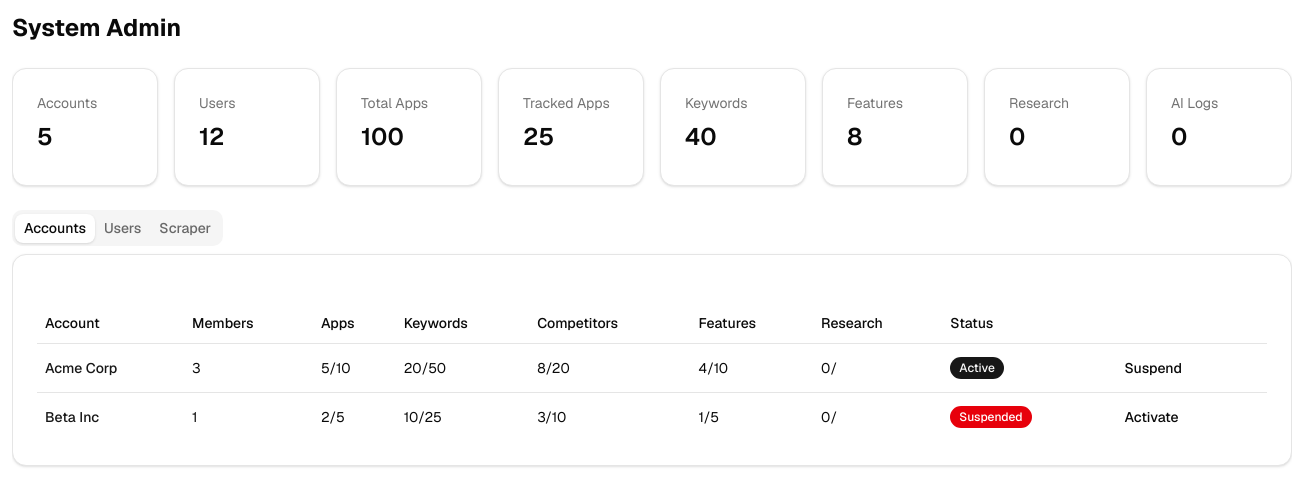
Test: SystemAdminPage › renders users table in Users tab
The image size is (1292, 484).
Expected: the link "Acme Corp" is shown, [45, 358, 117, 376]
Click the tab "Users" at (123, 228), box [95, 214, 150, 242]
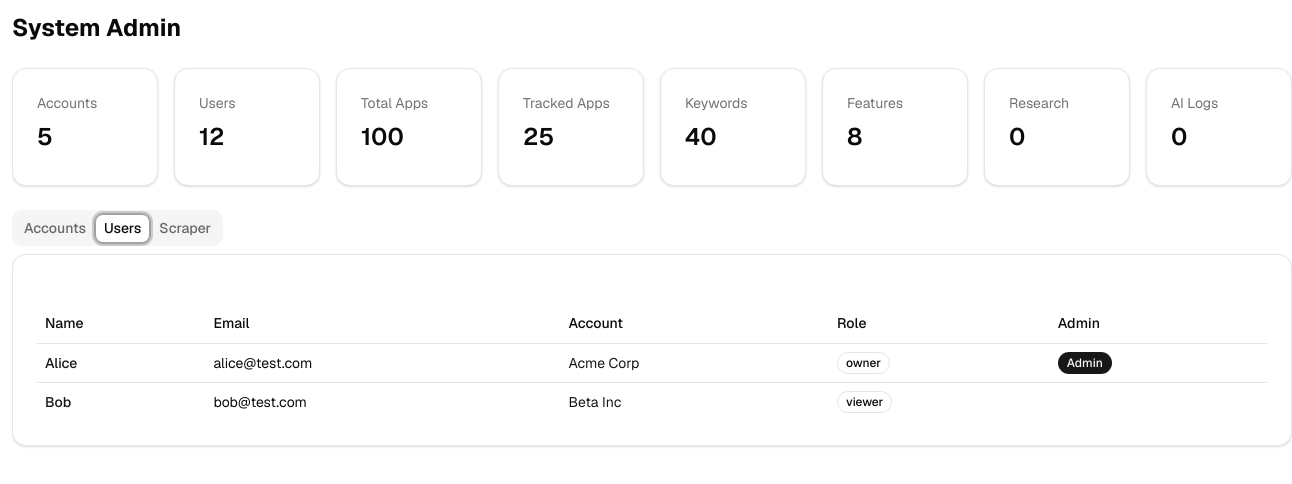
Result: the link "Alice" is shown at [45, 354, 77, 372]
Result: the link "Bob" is shown at [45, 392, 71, 410]
Result: the text "alice@test.com" is shown at [206, 343, 560, 382]
